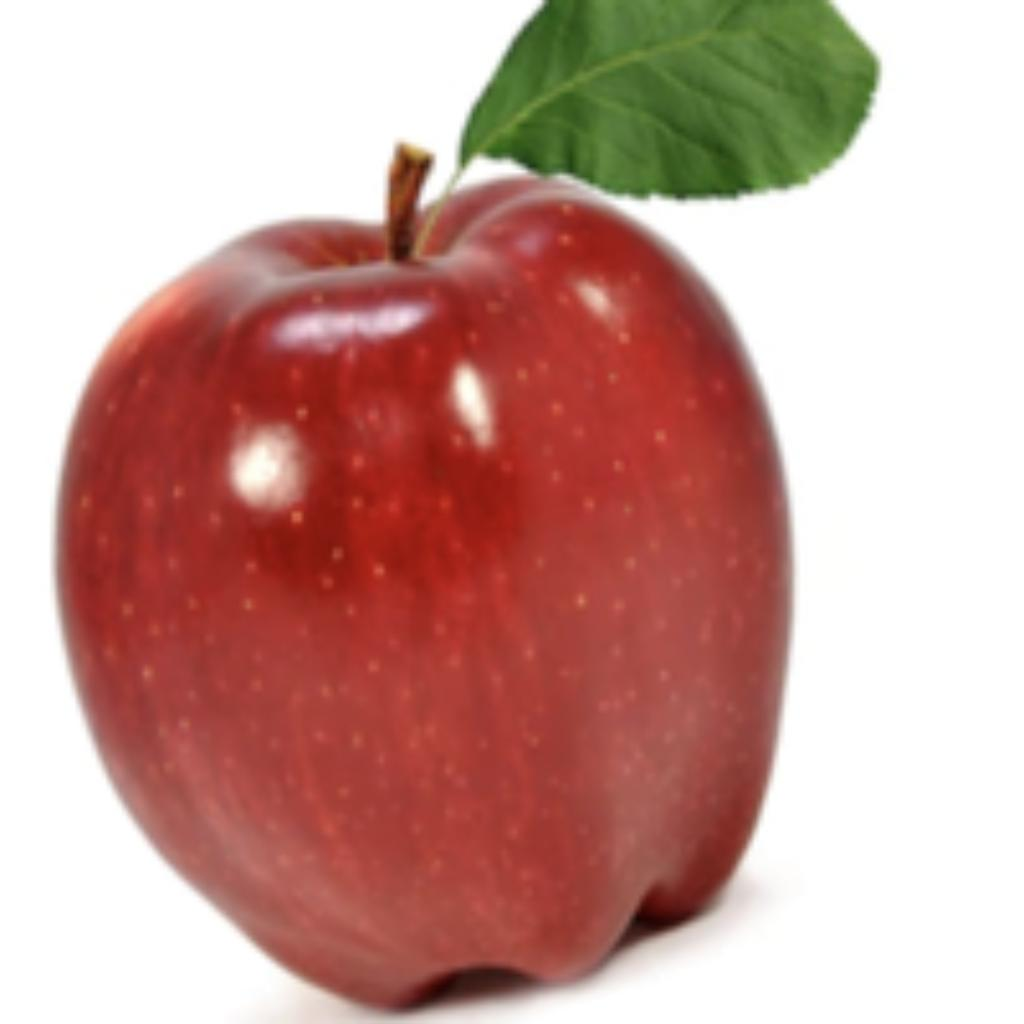apple: (46, 0, 886, 1019)
